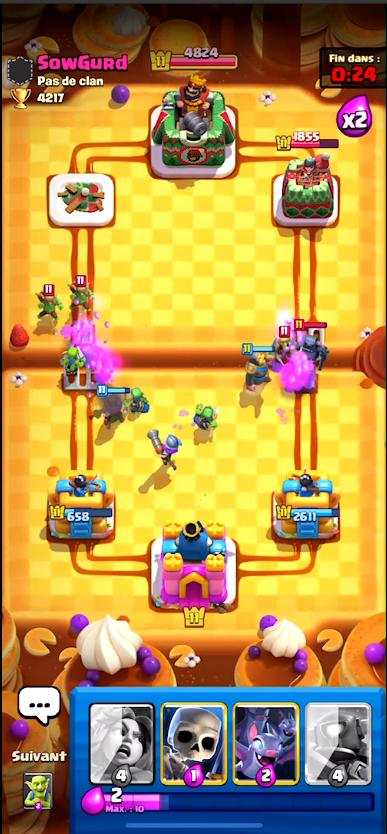chevalier: (235, 340, 273, 395)
gobelin: (61, 344, 85, 376), (277, 326, 295, 355)
gobelin_lances: (34, 283, 64, 315), (70, 276, 93, 312), (194, 405, 215, 433), (127, 386, 148, 412)
mini_PEKKA: (296, 319, 328, 366)
mousquetaire: (148, 428, 180, 468), (94, 385, 123, 427)
